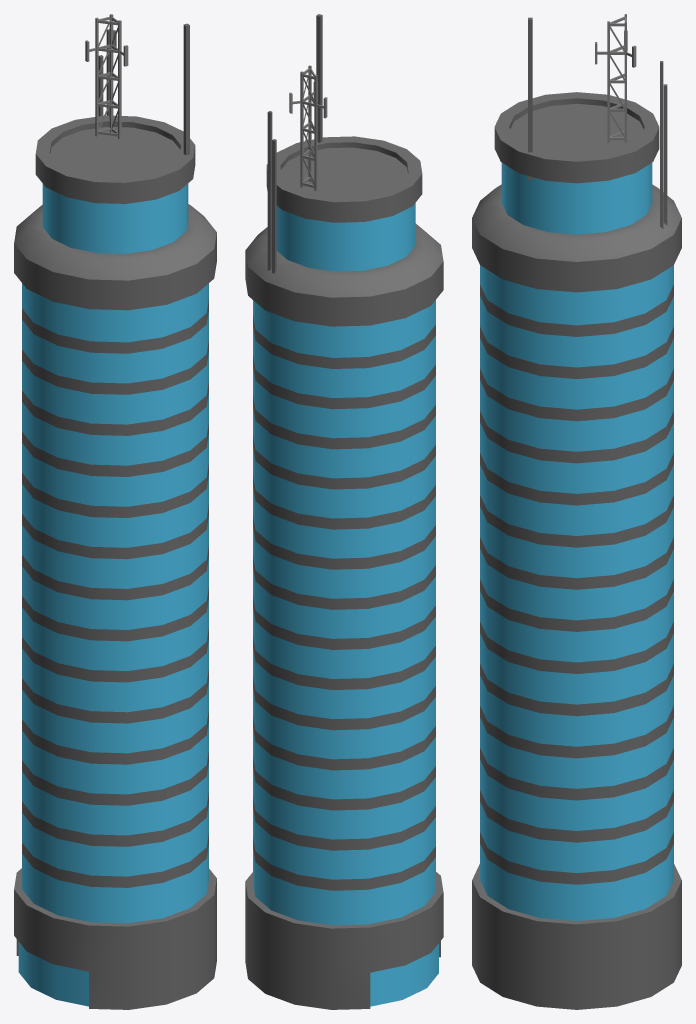
File: Skyscraper_12.fbx
3 renders of one model, left to right at view 1: azimuth 30°, elevation 25°; view 2: azimuth 150°, elevation 25°; view 3: azimuth 270°, elevation 25°, orthographic. The views are drawn at different scales.
Parts seen in each view (by area): view 1: Skyscraper_12; view 2: Skyscraper_12; view 3: Skyscraper_12.
Part boxes in pixels (x1,y1,x2,y2): Skyscraper_12: (14, 14, 216, 1009); Skyscraper_12: (245, 14, 443, 1009); Skyscraper_12: (472, 14, 681, 1009).
Size of the model in its own units: 32.68 by 167 by 32.68.
